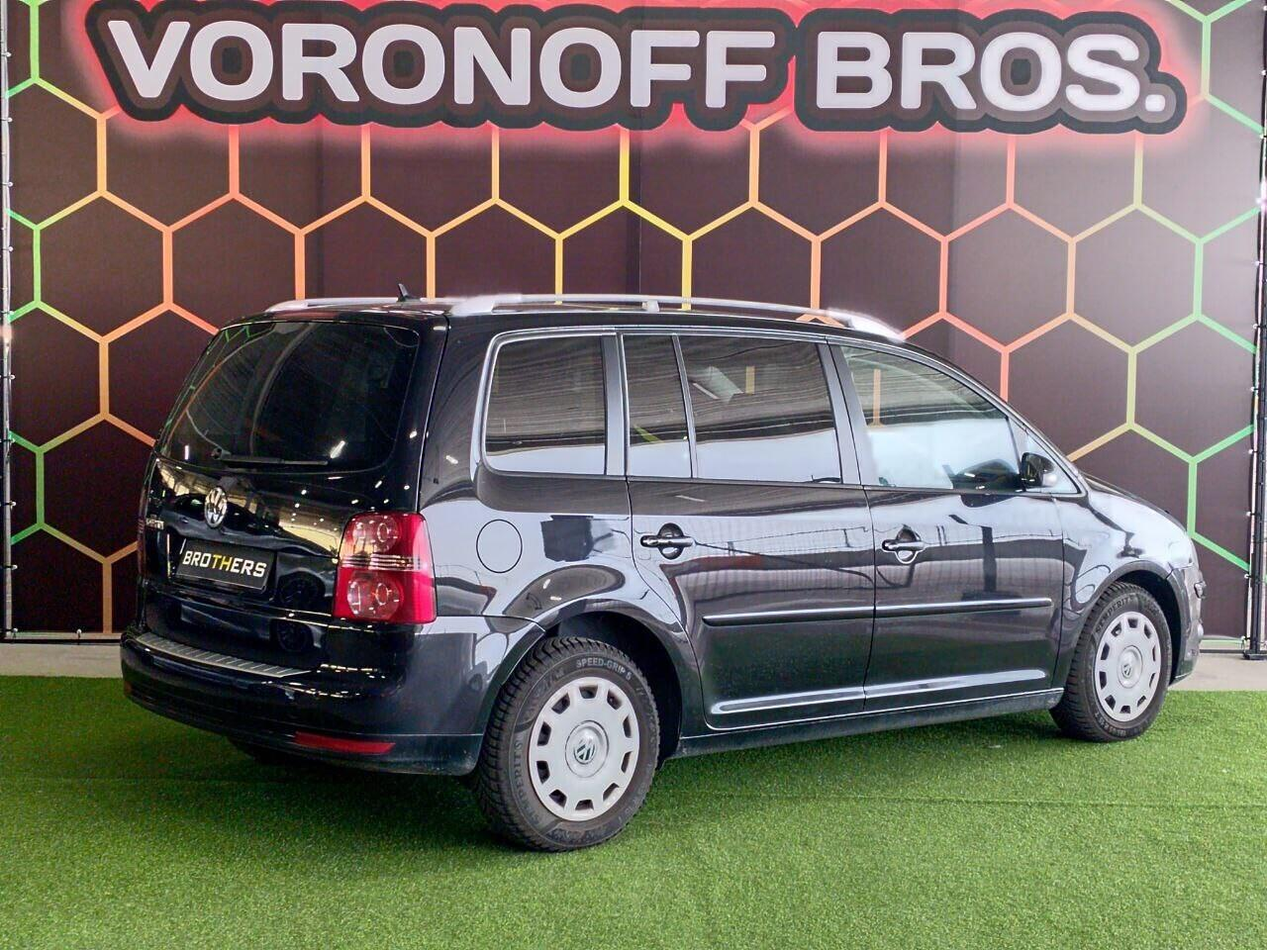Touran_2006-2010: (116, 291, 1208, 849)
